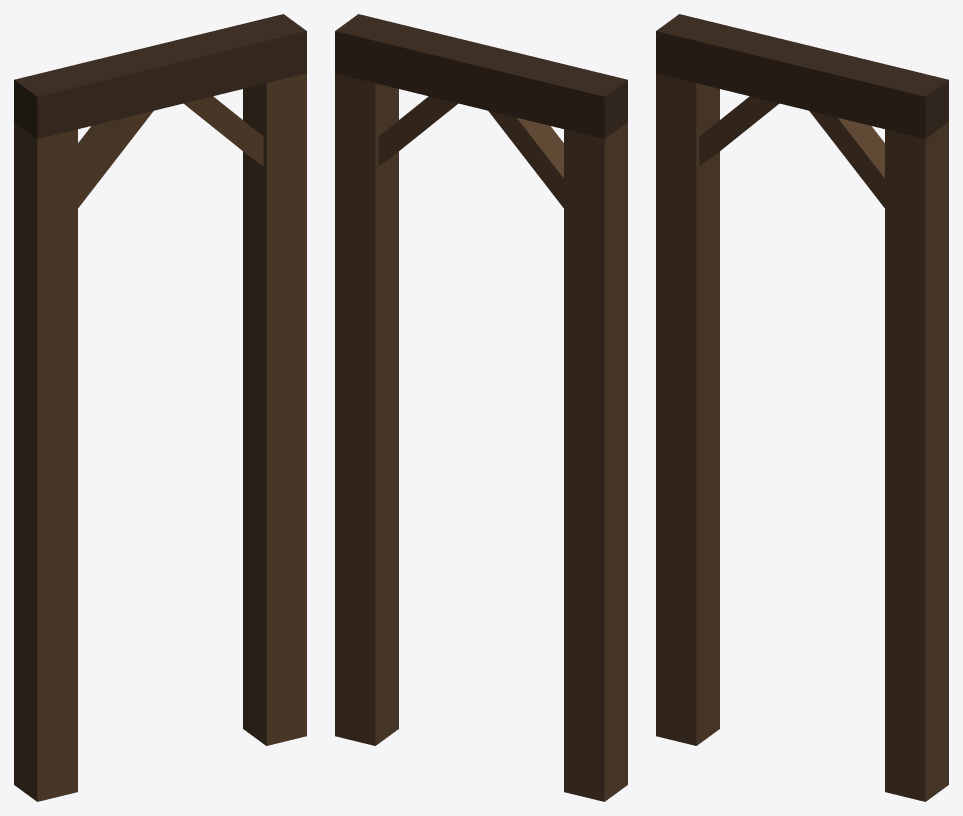
The model's file is pit_prop.glb.
3 views of the same model, side by side, from view 1: azimuth 30°, elevation 25°; view 2: azimuth 150°, elevation 25°; view 3: azimuth 330°, elevation 25° (orthographic).
Visible parts, largest first — view 1: pit_prop; view 2: pit_prop; view 3: pit_prop.
Boxes of the visible parts, x1,y1,x2,y2 form: pit_prop: (14,14,306,801); pit_prop: (335,14,627,801); pit_prop: (656,14,948,801).
Size of the model in its own units: 0.8 by 2 by 0.12.
